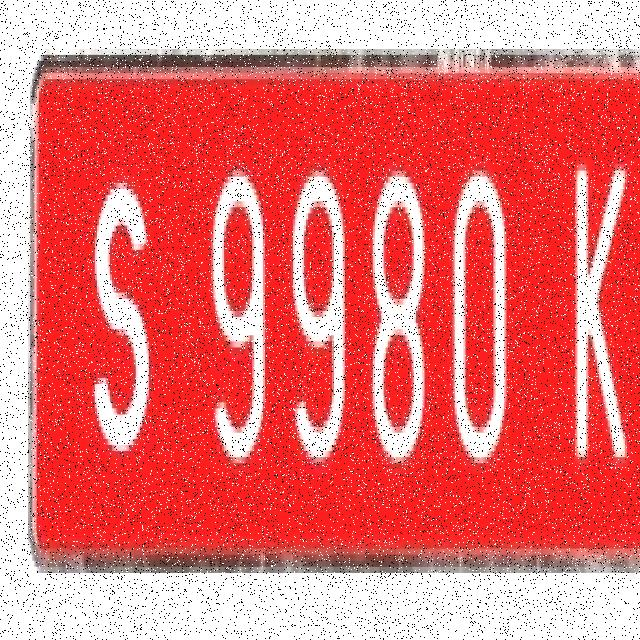licenseplate: (30, 61, 636, 576)
